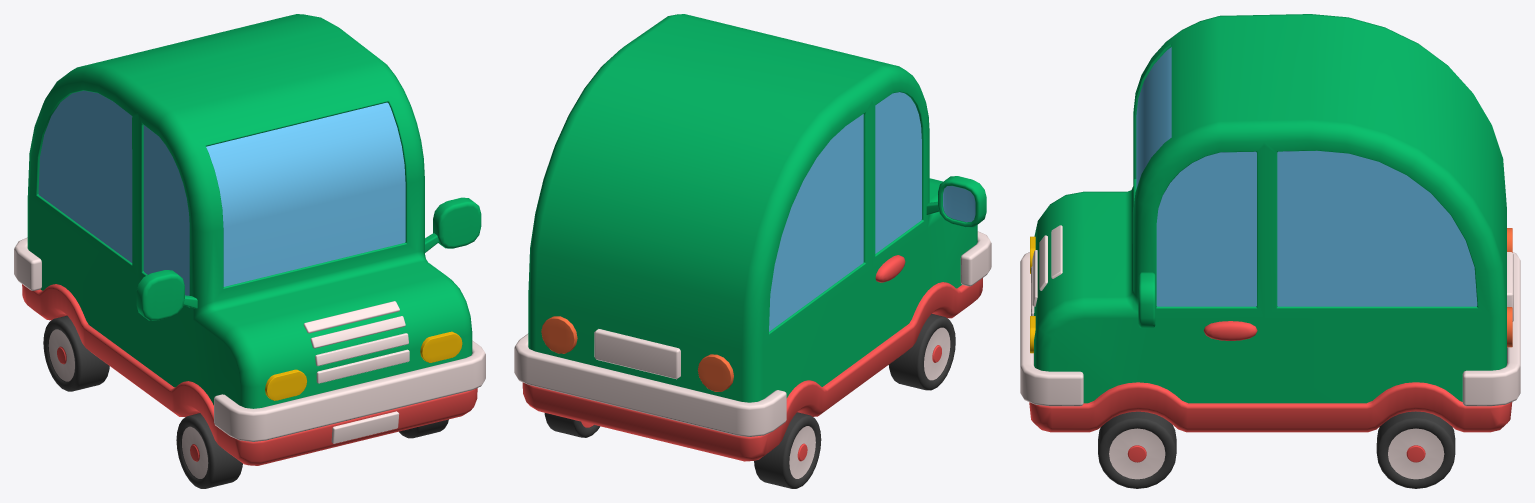
Rendered from Town_9_Car_1.glb.
3 renders of one model, left to right at view 1: azimuth 30°, elevation 25°; view 2: azimuth 150°, elevation 25°; view 3: azimuth 270°, elevation 25°, orthographic. The views are drawn at different scales.
Visible parts, largest first — view 1: Town_9_Car_1; view 2: Town_9_Car_1; view 3: Town_9_Car_1.
Boxes of the visible parts, x1,y1,x2,y2 form: Town_9_Car_1: (14, 14, 485, 488); Town_9_Car_1: (514, 14, 991, 488); Town_9_Car_1: (1020, 14, 1520, 488).
Size of the model in its own units: 2.96 by 2.88 by 3.61.
1 material, 1 textured.
